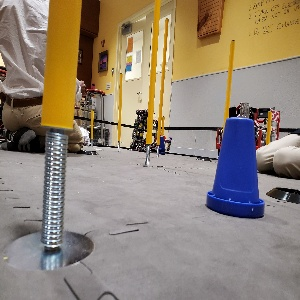Blue_1: (205, 115, 265, 218)
Blue_2: (159, 136, 165, 154)
